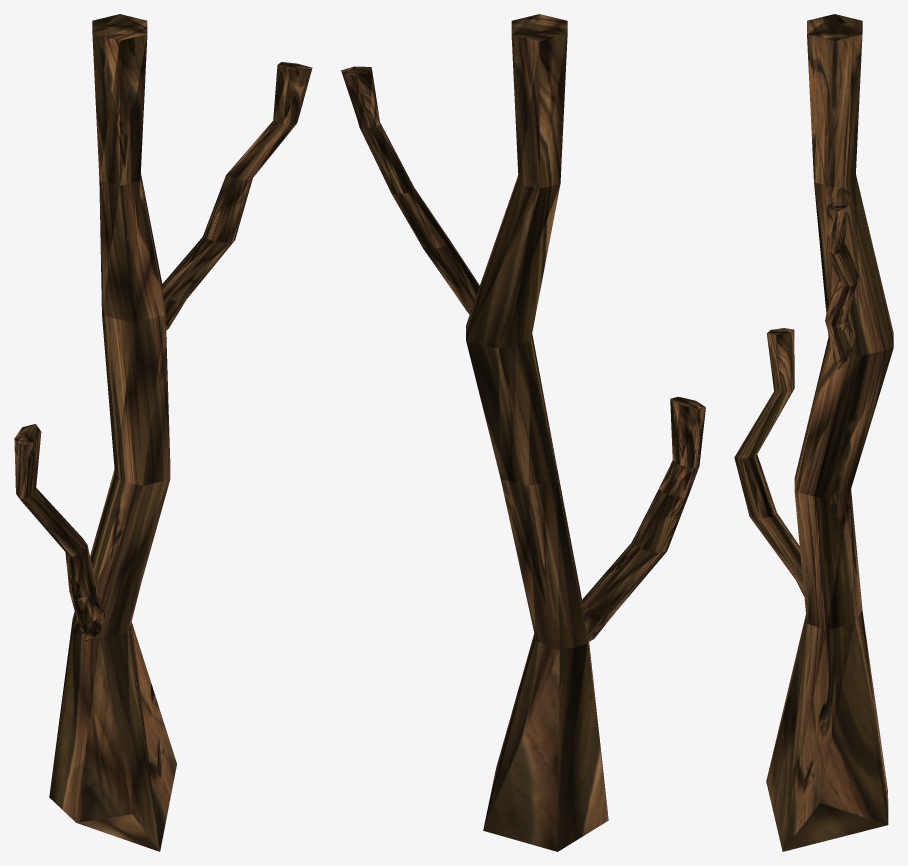
Rendered from vine.FBX.
3 renders of one model, left to right at view 1: azimuth 30°, elevation 25°; view 2: azimuth 150°, elevation 25°; view 3: azimuth 270°, elevation 25°, orthographic.
Visible parts, largest first — view 1: Cylinder001; view 2: Cylinder001; view 3: Cylinder001.
Boxes of the visible parts, x1=… form: Cylinder001: x1=14, y1=14, x2=312, y2=851; Cylinder001: x1=341, y1=14, x2=705, y2=851; Cylinder001: x1=734, y1=14, x2=893, y2=851.
Bounding box in the file's own units: 240 × 571 × 101.
